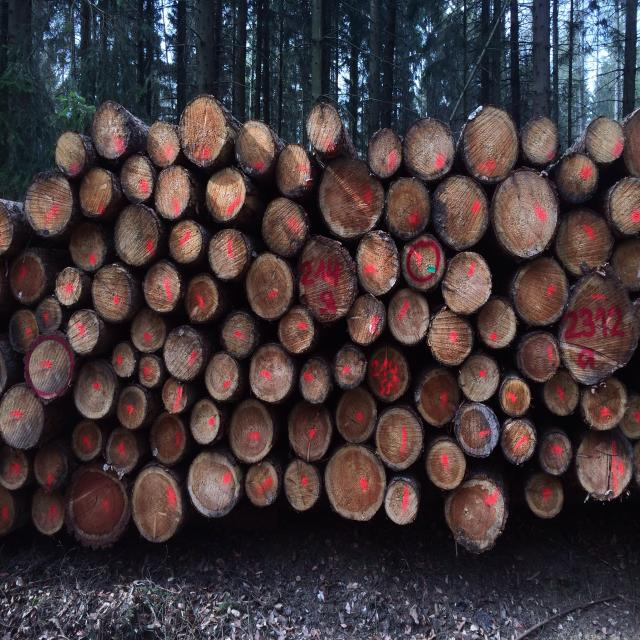wood-log: (556, 276, 637, 386), (494, 174, 561, 258), (318, 162, 388, 241), (296, 240, 359, 326), (67, 465, 129, 547), (323, 448, 386, 523), (447, 482, 508, 553), (573, 434, 632, 504), (431, 178, 488, 250), (464, 110, 521, 181), (130, 468, 182, 544), (511, 257, 567, 327), (553, 211, 612, 276), (181, 99, 232, 169), (188, 452, 242, 518), (23, 338, 76, 402), (245, 252, 295, 318), (440, 252, 490, 315), (373, 407, 422, 471), (25, 177, 76, 237), (113, 206, 162, 268), (226, 397, 272, 463), (405, 121, 455, 179), (249, 343, 298, 402), (286, 399, 332, 461), (354, 236, 400, 297), (414, 368, 460, 429), (72, 358, 118, 419), (1, 388, 46, 450), (425, 310, 473, 368), (262, 197, 309, 256), (364, 342, 408, 403), (164, 326, 210, 383), (386, 179, 430, 238), (332, 389, 378, 444), (386, 288, 429, 346), (456, 404, 502, 458), (402, 237, 446, 293), (514, 331, 561, 383), (93, 264, 133, 322), (233, 121, 276, 174), (150, 414, 192, 468), (580, 378, 622, 431), (206, 170, 247, 224), (92, 104, 132, 159), (475, 298, 518, 349), (208, 228, 250, 280), (344, 294, 386, 346), (424, 439, 467, 489), (68, 220, 108, 272), (142, 262, 182, 314), (7, 253, 46, 306), (459, 355, 501, 404), (154, 166, 192, 219), (276, 146, 314, 198), (283, 460, 321, 512), (556, 155, 598, 202), (525, 470, 564, 520), (204, 352, 242, 402), (183, 274, 220, 324), (587, 118, 627, 164), (542, 369, 581, 416), (278, 309, 316, 356), (79, 168, 116, 216), (306, 106, 342, 155), (384, 476, 420, 525), (365, 130, 401, 179), (221, 314, 259, 360), (501, 420, 539, 466), (520, 120, 558, 166), (31, 490, 68, 537), (105, 428, 141, 476), (120, 156, 156, 204), (34, 447, 72, 492), (64, 310, 101, 356), (189, 399, 225, 446), (610, 180, 640, 236), (130, 308, 168, 352), (167, 220, 203, 266), (146, 122, 182, 168), (299, 358, 334, 405), (245, 462, 281, 507), (333, 344, 368, 389), (537, 431, 571, 476), (54, 131, 86, 176), (613, 239, 640, 292), (116, 388, 148, 431), (70, 421, 103, 462), (498, 378, 532, 417), (0, 446, 31, 488), (8, 311, 37, 355), (162, 377, 192, 414), (55, 267, 83, 306), (112, 342, 138, 378), (626, 112, 640, 178), (138, 355, 164, 390), (620, 396, 640, 440), (0, 484, 16, 538), (0, 204, 14, 257)
